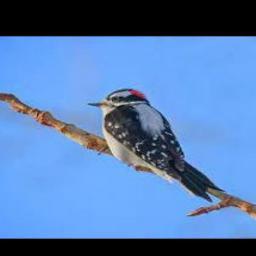Woodpecker: (87, 88, 224, 201)
